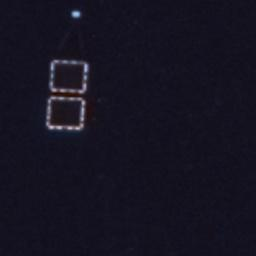square_solid: (43, 95, 89, 135), (47, 58, 91, 95)
